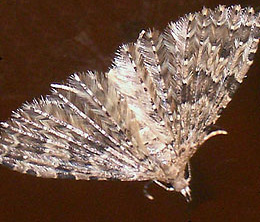Alucitidae: (1, 4, 260, 207)
moth: (1, 2, 260, 205)
